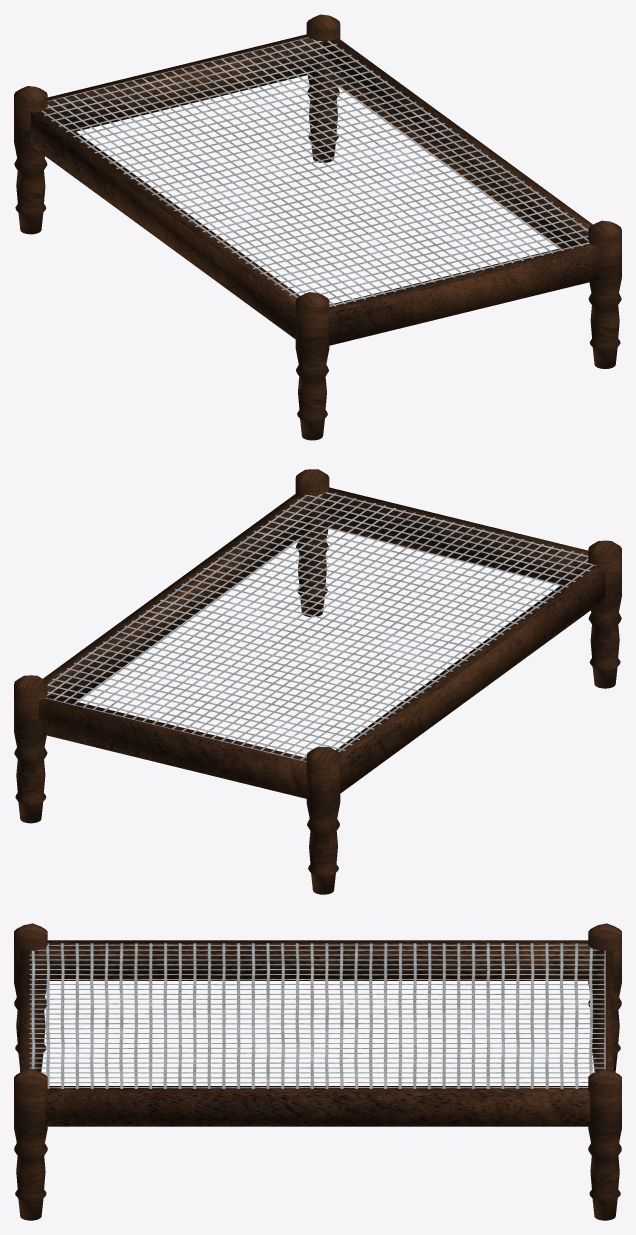
File: old-bed.glb
3 views of the same model, one above another, from view 1: azimuth 30°, elevation 25°; view 2: azimuth 150°, elevation 25°; view 3: azimuth 270°, elevation 25° (orthographic).
Visible parts, largest first — view 1: Plane, Cube.002, Cube.001, Cube, Cube.003, Cylinder, Cylinder.004, Cylinder.002, Cylinder.001; view 2: Plane, Cube.002, Cube.003, Cube, Cube.001, Cylinder.002, Cylinder.001, Cylinder, Cylinder.004; view 3: Plane, Cube, Cube.002, Cylinder.004, Cylinder.001, Cylinder, Cylinder.002, Cube.003, Cube.001.
Boxes of the visible parts, bbox=[...] form: Plane: bbox=[41, 37, 589, 306]; Cube.002: bbox=[30, 109, 300, 338]; Cube.001: bbox=[329, 241, 599, 345]; Cube: bbox=[323, 38, 592, 247]; Cube.003: bbox=[47, 34, 315, 131]; Cylinder: bbox=[295, 292, 329, 440]; Cylinder.004: bbox=[588, 220, 621, 368]; Cylinder.002: bbox=[14, 86, 47, 234]; Cylinder.001: bbox=[306, 14, 340, 162]; Plane: bbox=[45, 492, 596, 761]; Cube.002: bbox=[335, 564, 605, 793]; Cube.003: bbox=[39, 695, 306, 798]; Cube: bbox=[43, 492, 312, 701]; Cube.001: bbox=[322, 487, 588, 584]; Cylinder.002: bbox=[306, 746, 340, 894]; Cylinder.001: bbox=[14, 675, 47, 823]; Cylinder: bbox=[588, 540, 621, 688]; Cylinder.004: bbox=[295, 469, 329, 617]; Plane: bbox=[29, 943, 605, 1088]; Cube: bbox=[45, 1086, 590, 1126]; Cube.002: bbox=[45, 940, 589, 980]; Cylinder.004: bbox=[14, 1069, 47, 1220]; Cylinder.001: bbox=[588, 1069, 621, 1220]; Cylinder: bbox=[14, 923, 47, 1071]; Cylinder.002: bbox=[588, 923, 621, 1071]; Cube.003: bbox=[596, 950, 613, 1071]; Cube.001: bbox=[20, 949, 37, 1072].
Bounding box in the file's own units: 6.59 × 2.8 × 10.59.
Materials: 2 (2 with a texture image).
